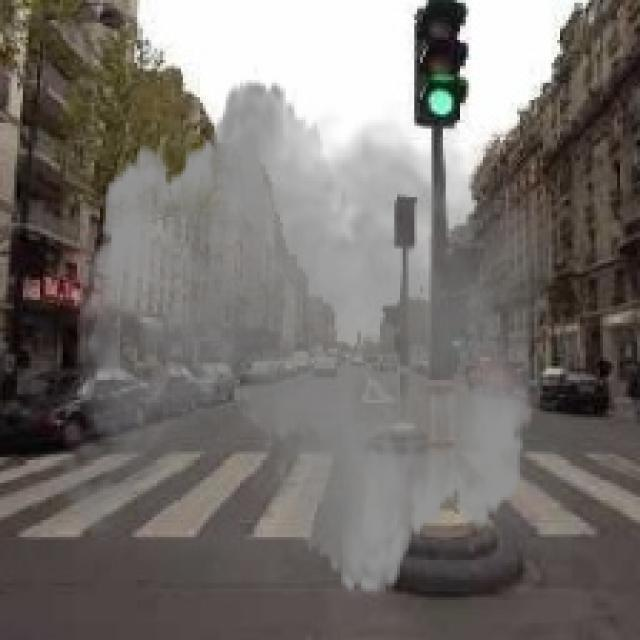Smoke: (39, 63, 572, 612)
